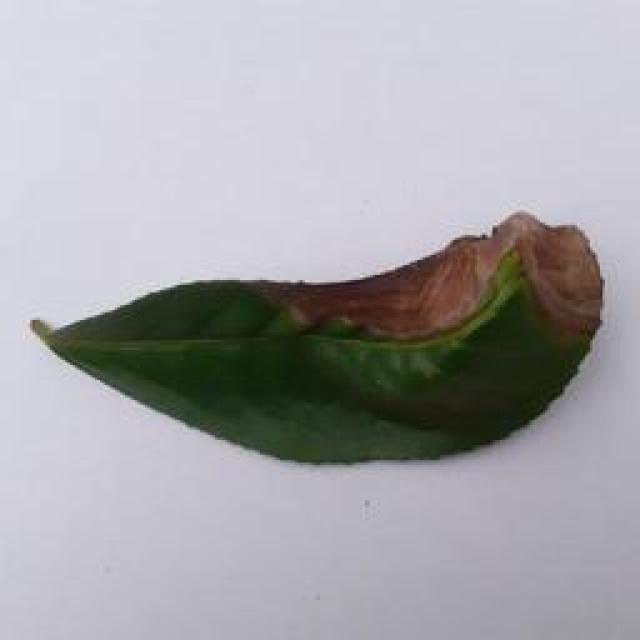Brown Blight: (22, 202, 621, 500)
